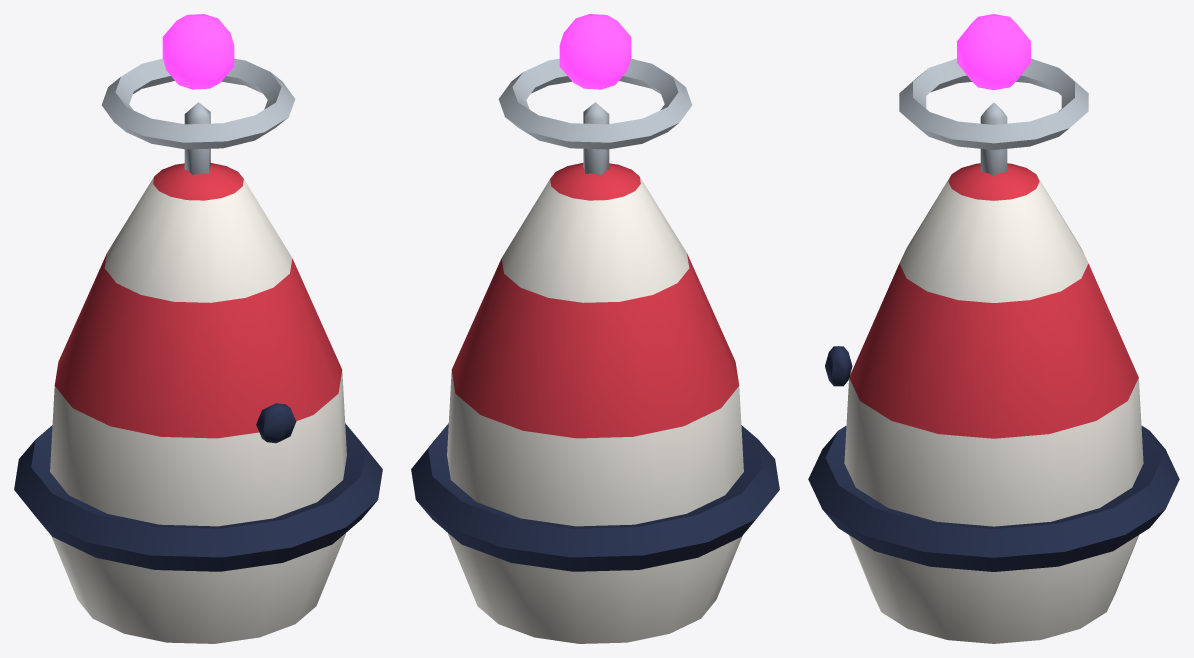
File: Tutorial_LessonBuoy_Marker1.fbx
3 views of the same model, side by side, from view 1: azimuth 30°, elevation 25°; view 2: azimuth 150°, elevation 25°; view 3: azimuth 270°, elevation 25° (orthographic).
Parts seen in each view (by area): view 1: Tutorial_LessonBuoy_Marker1; view 2: Tutorial_LessonBuoy_Marker1; view 3: Tutorial_LessonBuoy_Marker1.
Boxes of the visible parts, x1,y1,x2,y2 form: Tutorial_LessonBuoy_Marker1: [14, 14, 382, 643]; Tutorial_LessonBuoy_Marker1: [411, 14, 779, 643]; Tutorial_LessonBuoy_Marker1: [808, 14, 1179, 643].
Size of the model in its own units: 1.34 by 2.29 by 1.34.
